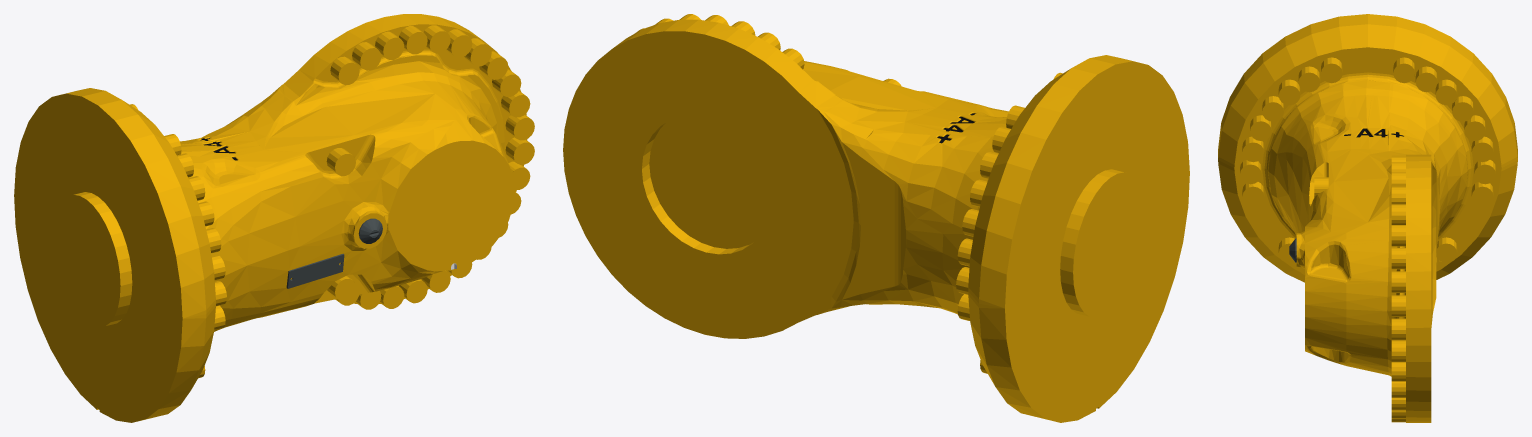
3 views of the same model, side by side, from view 1: azimuth 30°, elevation 25°; view 2: azimuth 150°, elevation 25°; view 3: azimuth 270°, elevation 25° (orthographic). The views are drawn at different scales.
Parts seen in each view (by area): view 1: link_4; view 2: link_4; view 3: link_4.
Boxes of the visible parts, x1,y1,x2,y2 form: link_4: (14,14,534,422); link_4: (563,14,1189,422); link_4: (1218,14,1517,422).
Size of the model in its own units: 0.3932 by 0.248 by 0.248.
